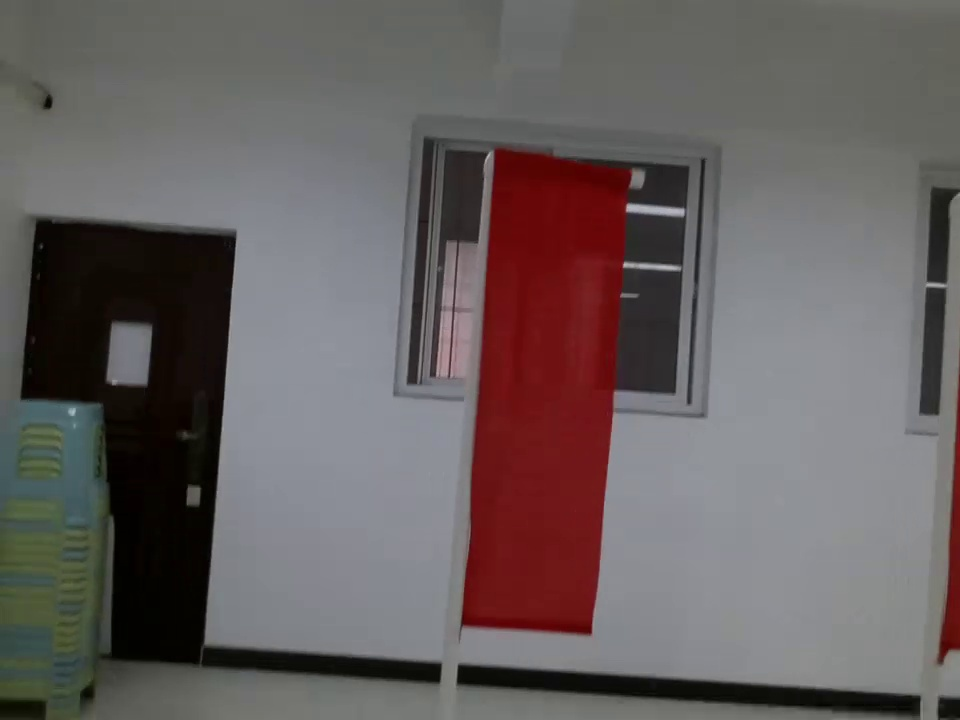qi: (449, 145, 648, 669)
